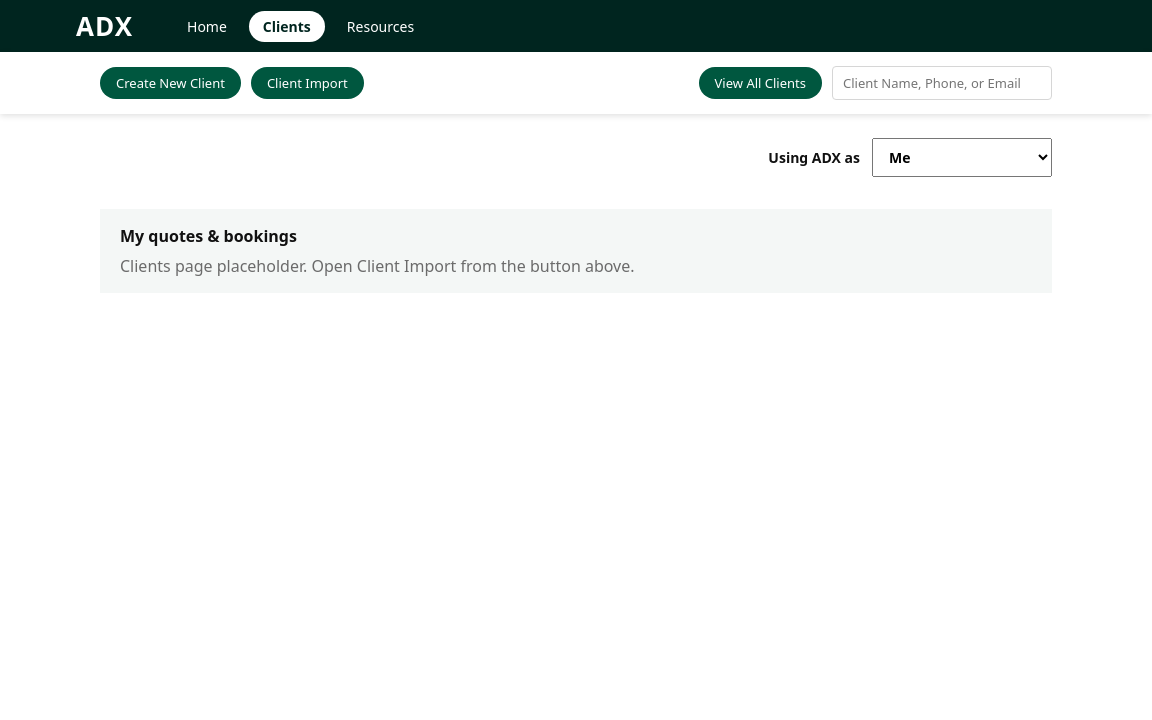
Scenario: choosing an Advisor › shows an error with Retry when the lookup fails, and recovers on retry
Click the button "Client Import" at (307, 83), box [251,67,364,99]
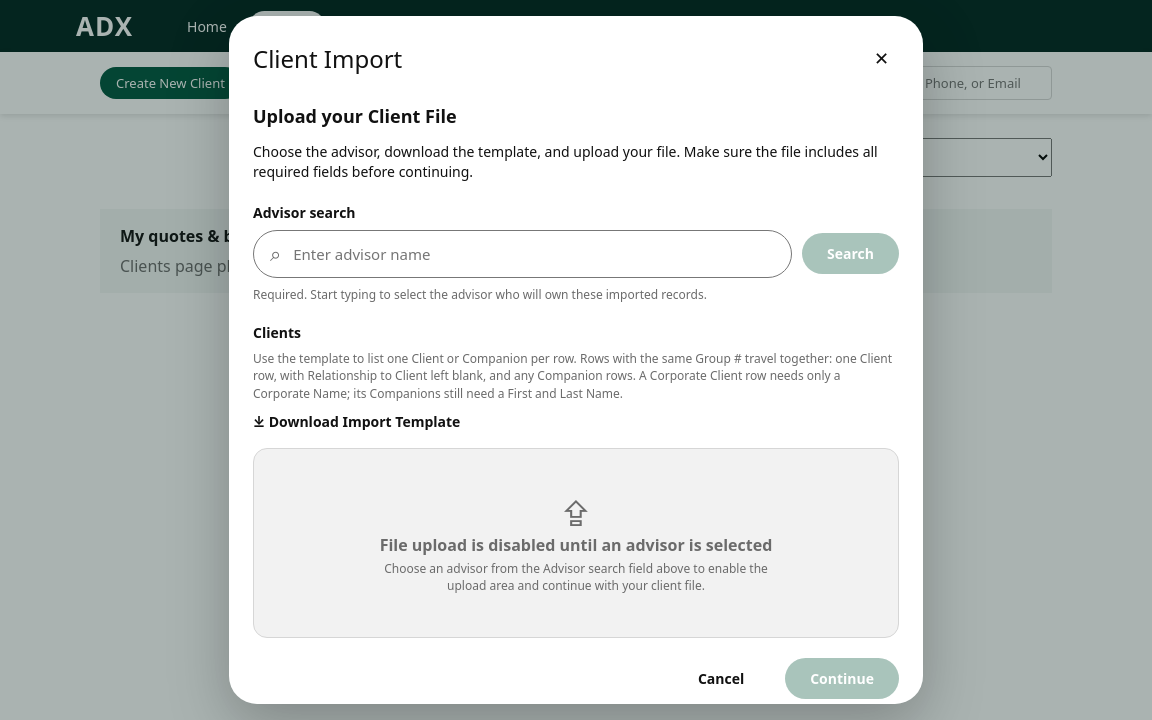
Type "sa" into the dropdown labelled "Advisor search" at (535, 254), box [291,243,779,265]
Wait 300 ms
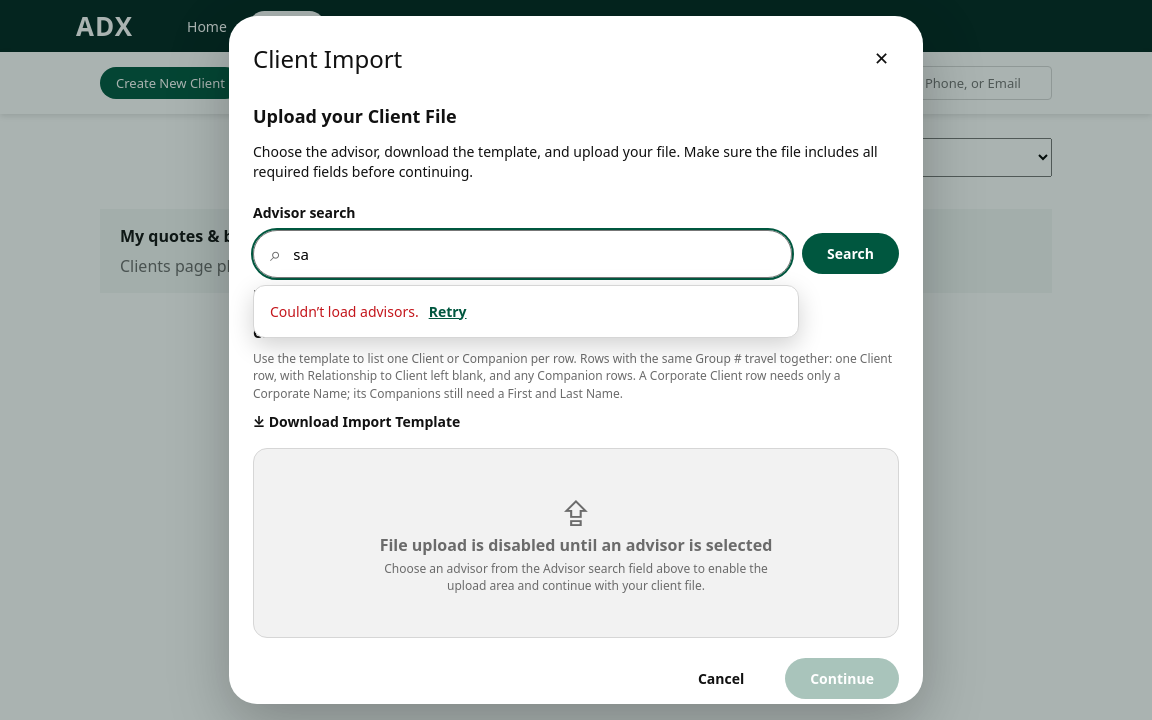
Result: the message shows "Couldn’t load advisors." at [270,302,419,321]
Click the button "Retry" at (448, 311), box [429,302,466,321]
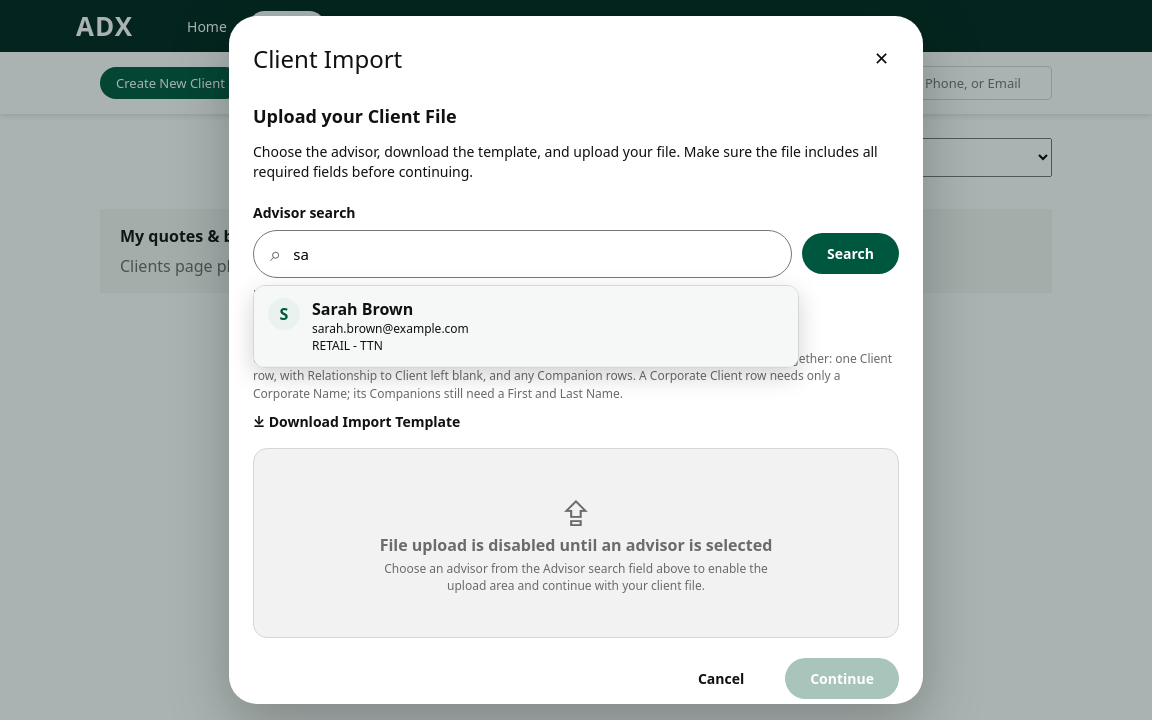
Result: the option "S Sarah Brown sarah.brown@example.com RETAIL - TTN" is shown at [254,286,798,367]
